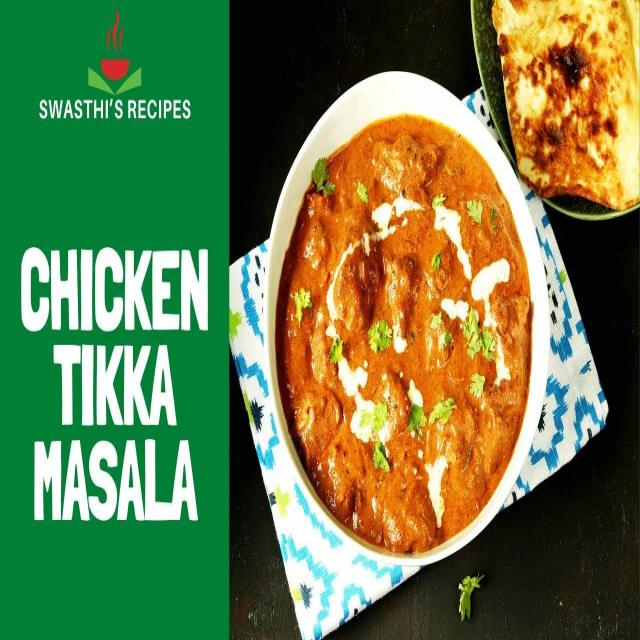chicken: (281, 107, 530, 535)
